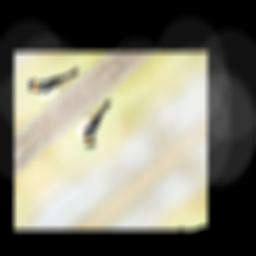Swallow: (66, 88, 135, 151)
